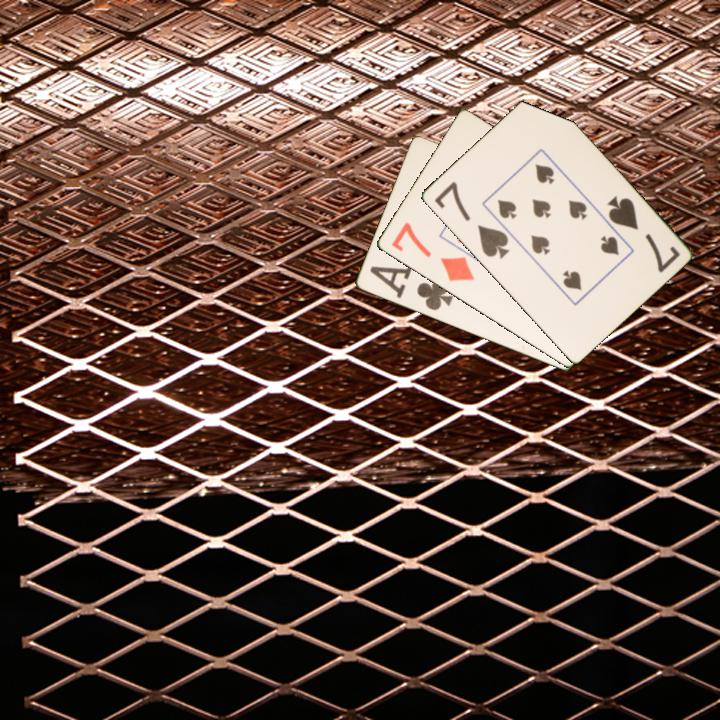7d: (387, 219, 477, 285)
7s: (430, 178, 512, 262), (603, 192, 683, 276)
Ac: (366, 262, 456, 314)
